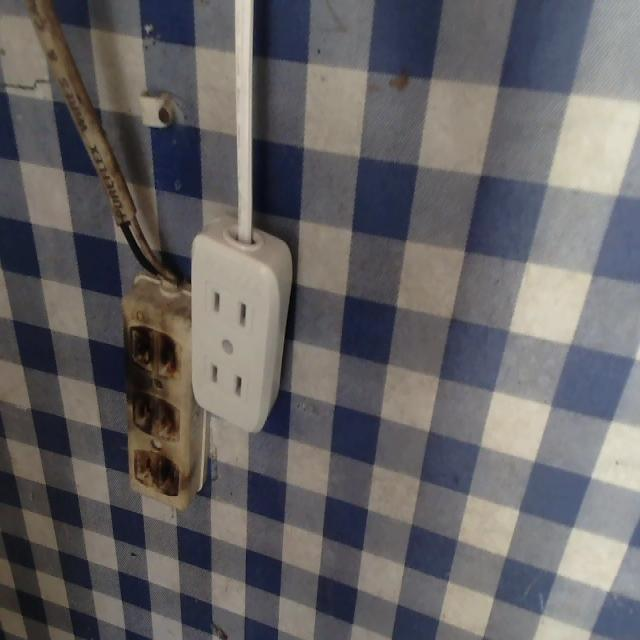-: (123, 309, 185, 382), (124, 387, 184, 445), (133, 450, 181, 506)
